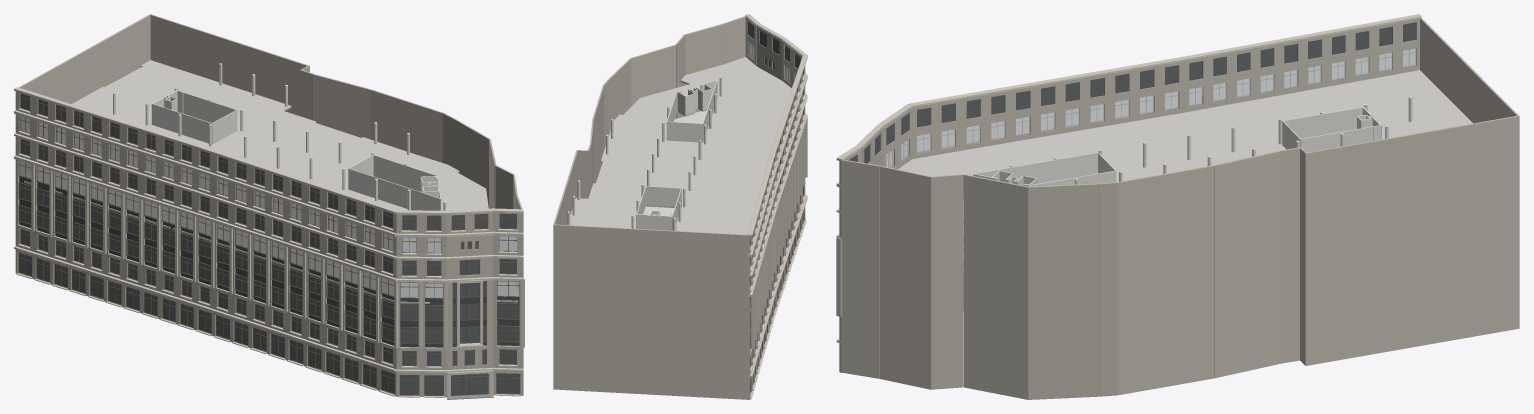
The model's file is 61a-interior-ddbf084fb853.glb.
3 renders of one model, left to right at view 1: azimuth 30°, elevation 25°; view 2: azimuth 150°, elevation 25°; view 3: azimuth 270°, elevation 25°, orthographic. The views are drawn at different scales.
Parts seen in each view (by area): view 1: 61A.001; view 2: 61A.001; view 3: 61A.001.
Part boxes in pixels (<box>): 61A.001: <box>14,14,524,399</box>; 61A.001: <box>553,14,807,399</box>; 61A.001: <box>836,14,1519,399</box>.
Bounding box in the file's own units: 51.16 × 29.56 × 85.68.
